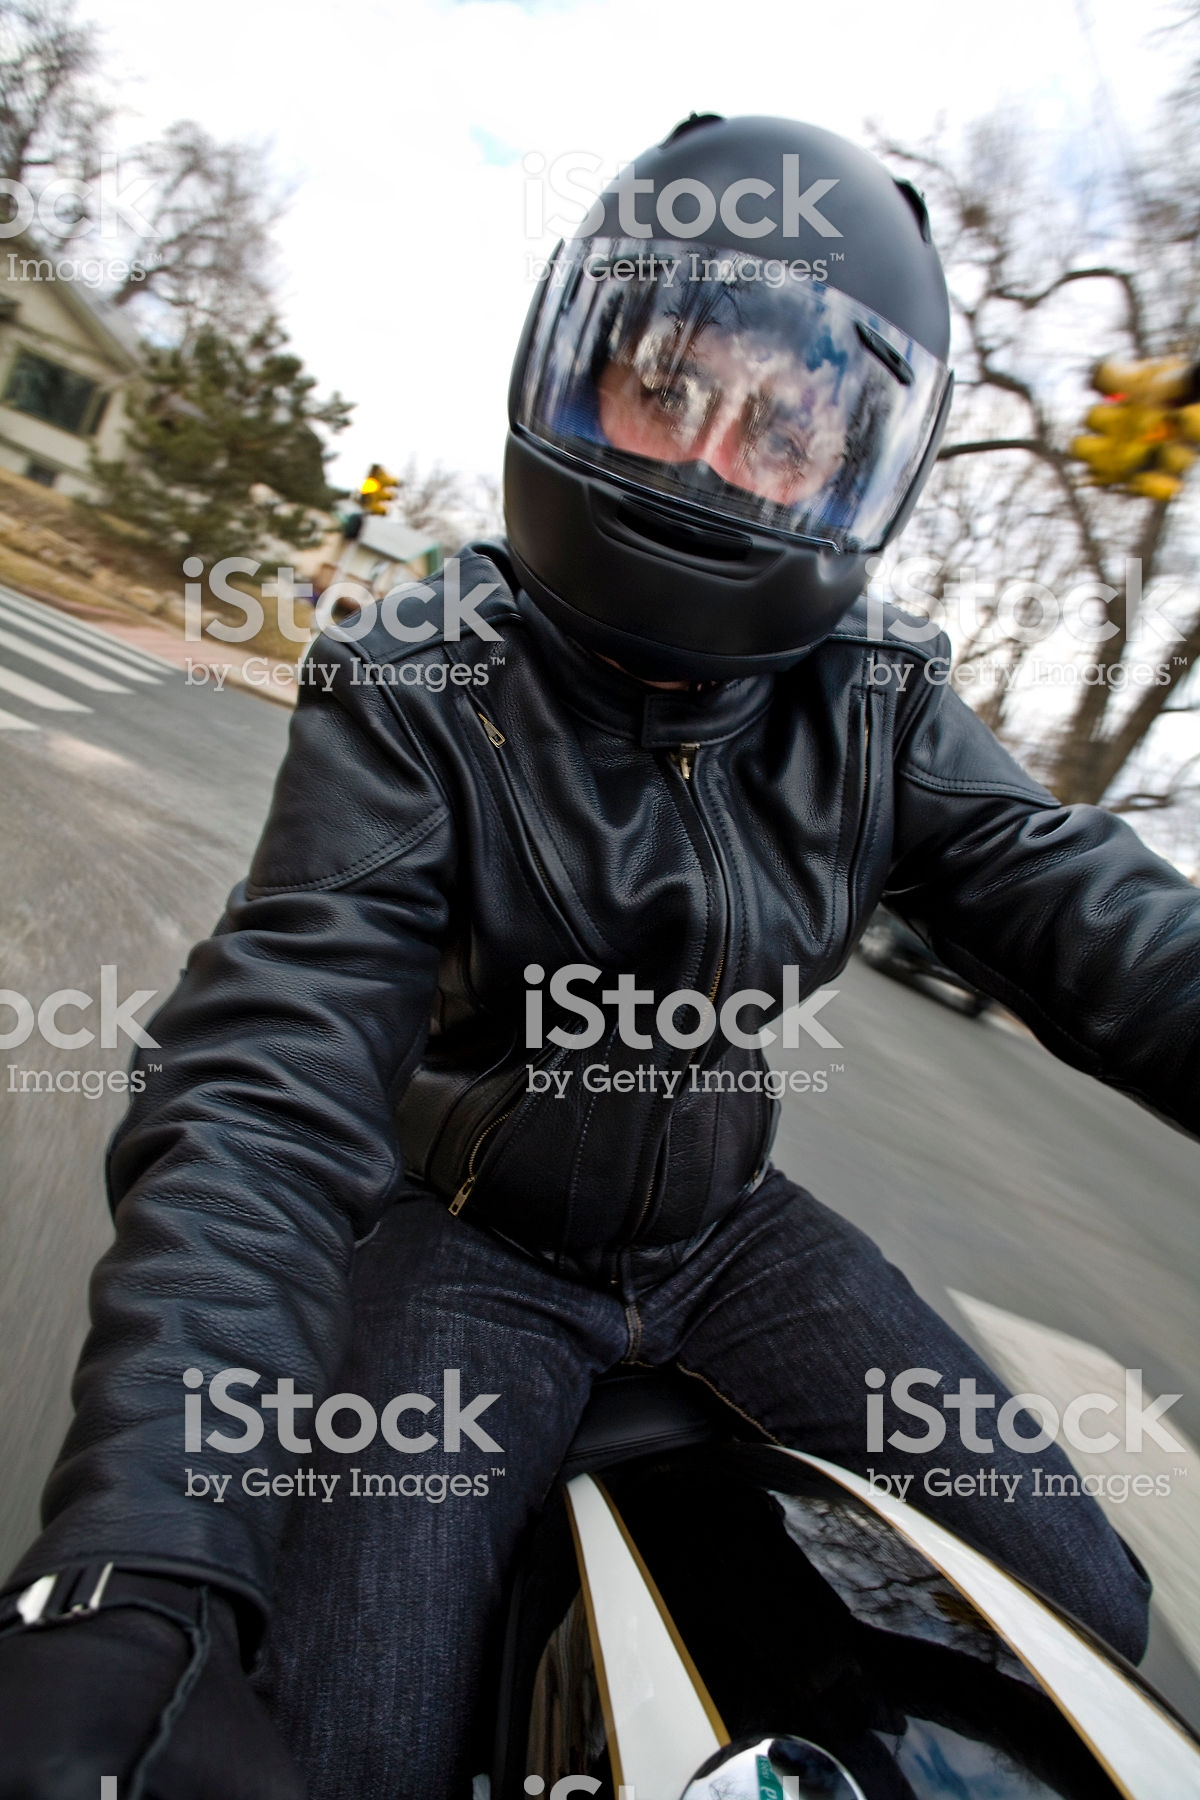helmet: (500, 155, 980, 648)
